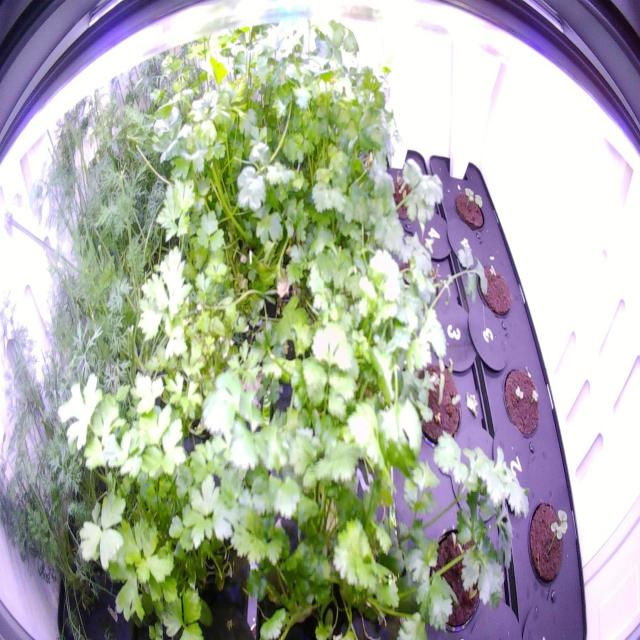germination: (402, 352, 471, 456), (520, 490, 571, 598), (497, 359, 546, 445), (471, 253, 517, 324), (451, 180, 488, 238)
